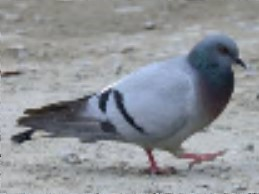pigeon: (9, 31, 248, 179)
